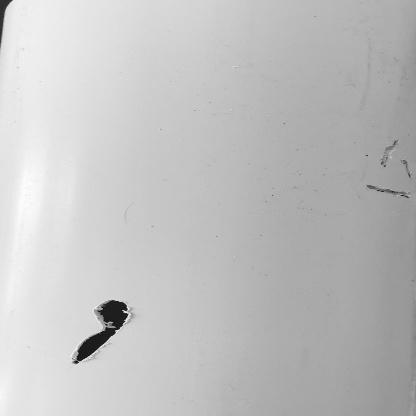kongdong: (62, 295, 136, 366)
sunshang: (373, 130, 413, 174), (363, 177, 416, 204)
